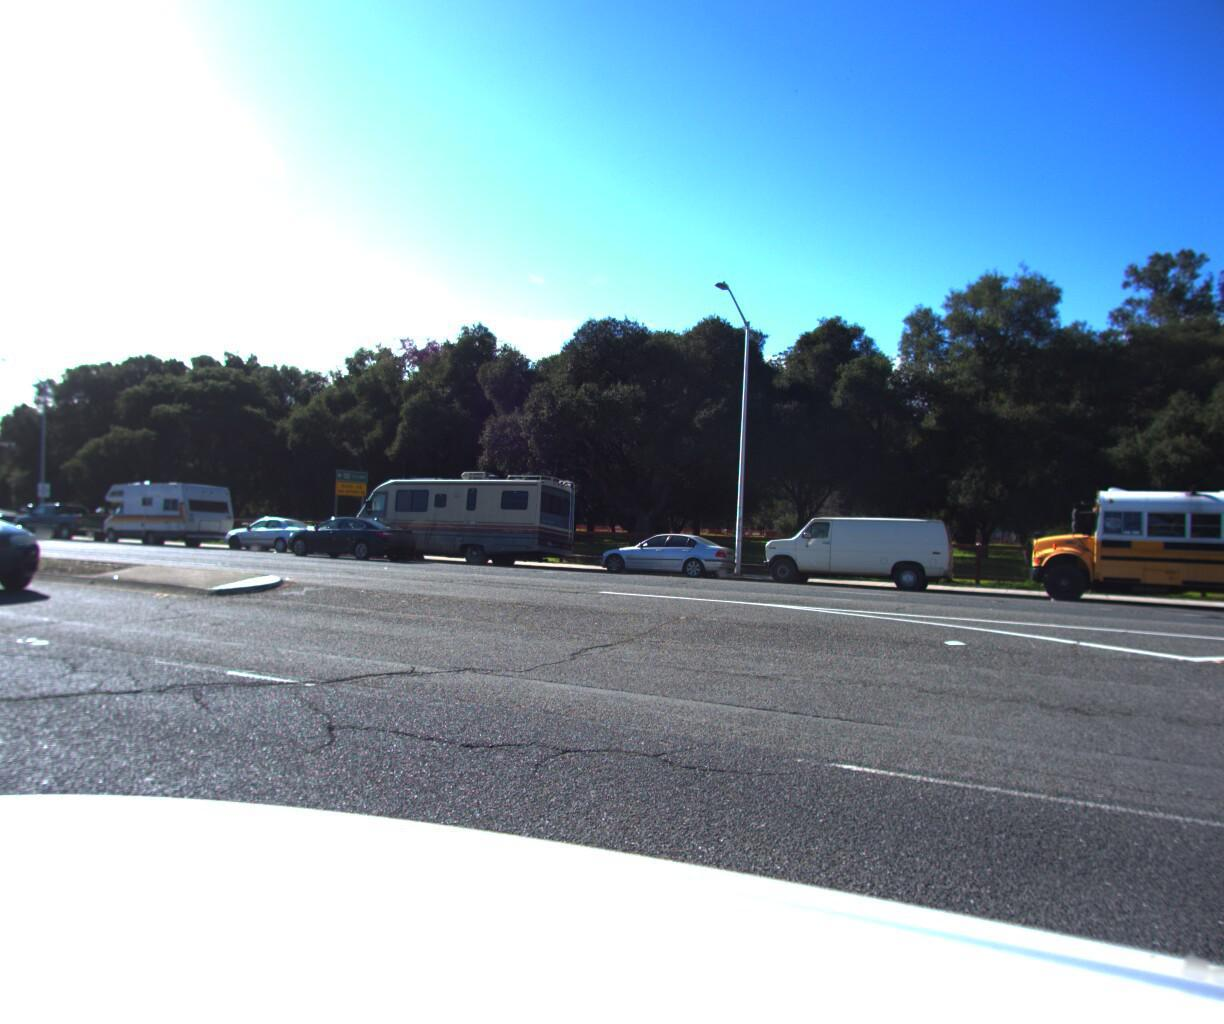bus: (1012, 474, 1224, 637)
car: (748, 506, 957, 588), (583, 525, 744, 578), (0, 477, 59, 598), (279, 513, 425, 559), (211, 509, 328, 552), (3, 497, 116, 537)
other_vehicle: (330, 461, 579, 565), (89, 474, 237, 544)
